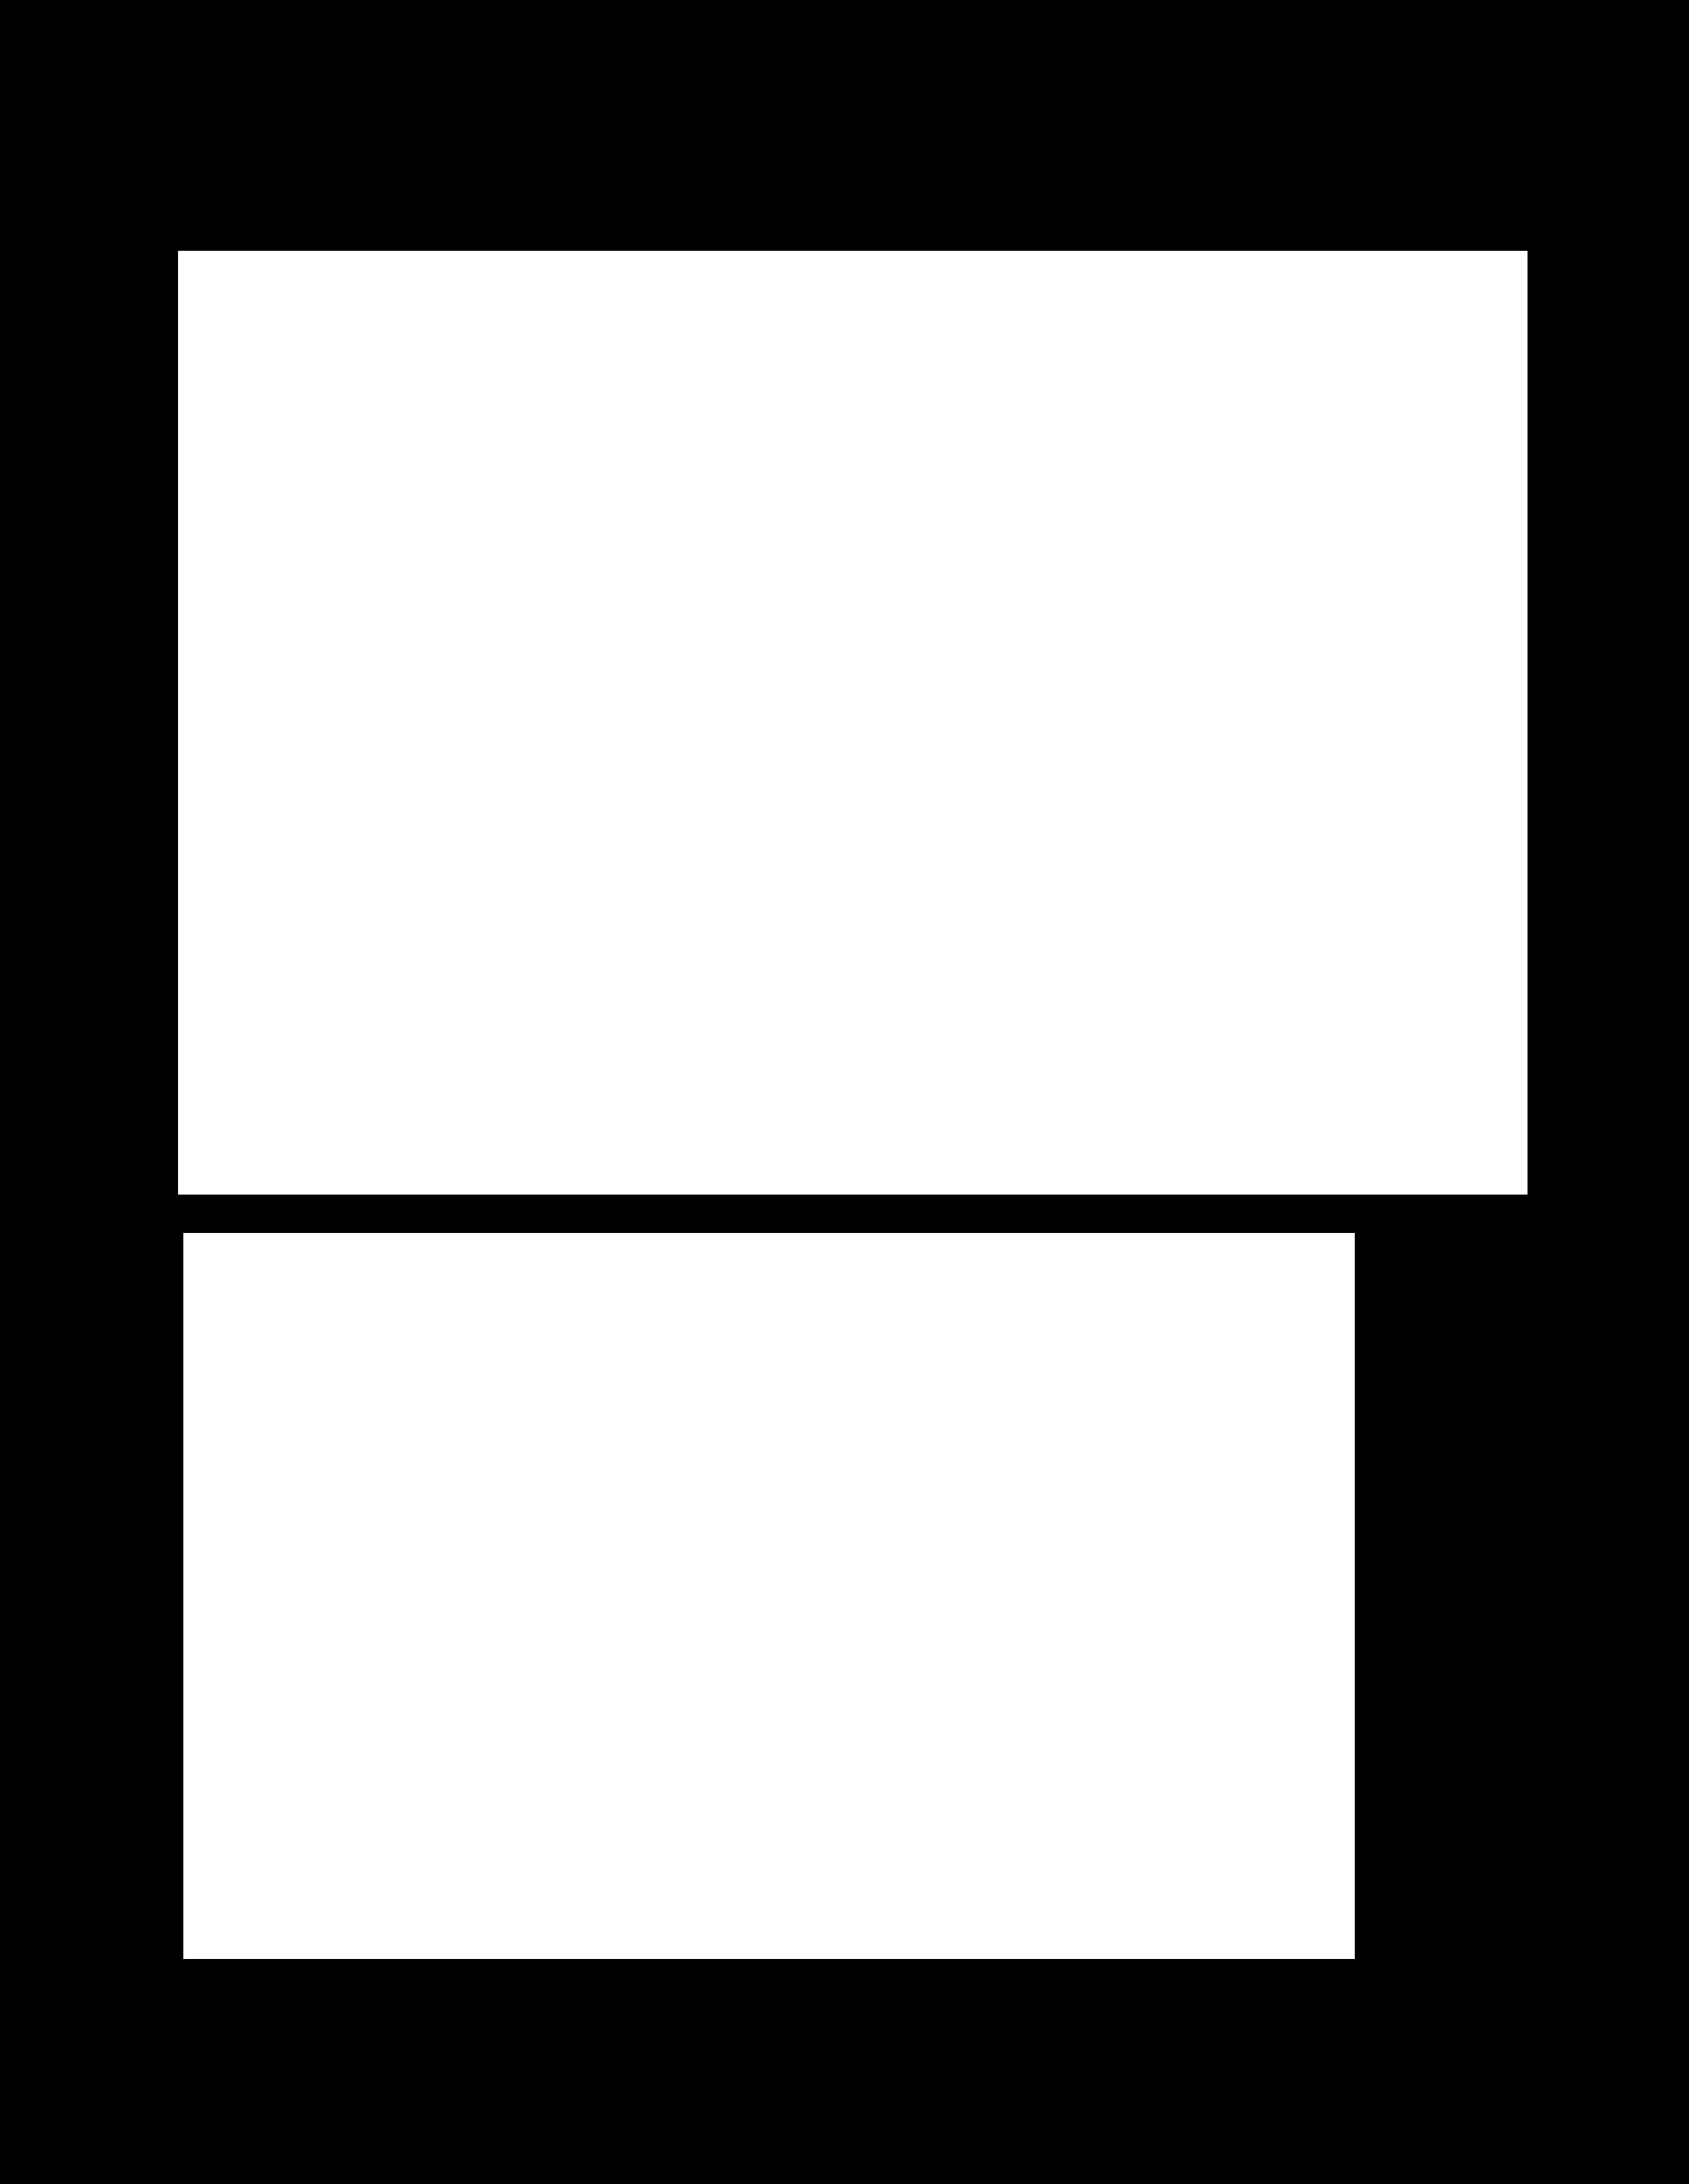table: (177, 250, 1528, 1193), (183, 1234, 1354, 1959)
